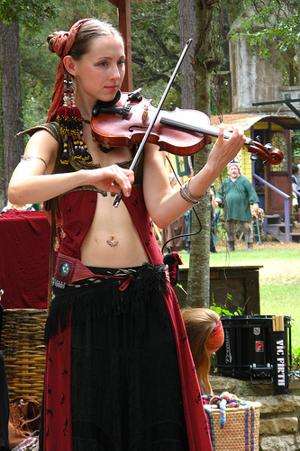person: (9, 20, 247, 451)
